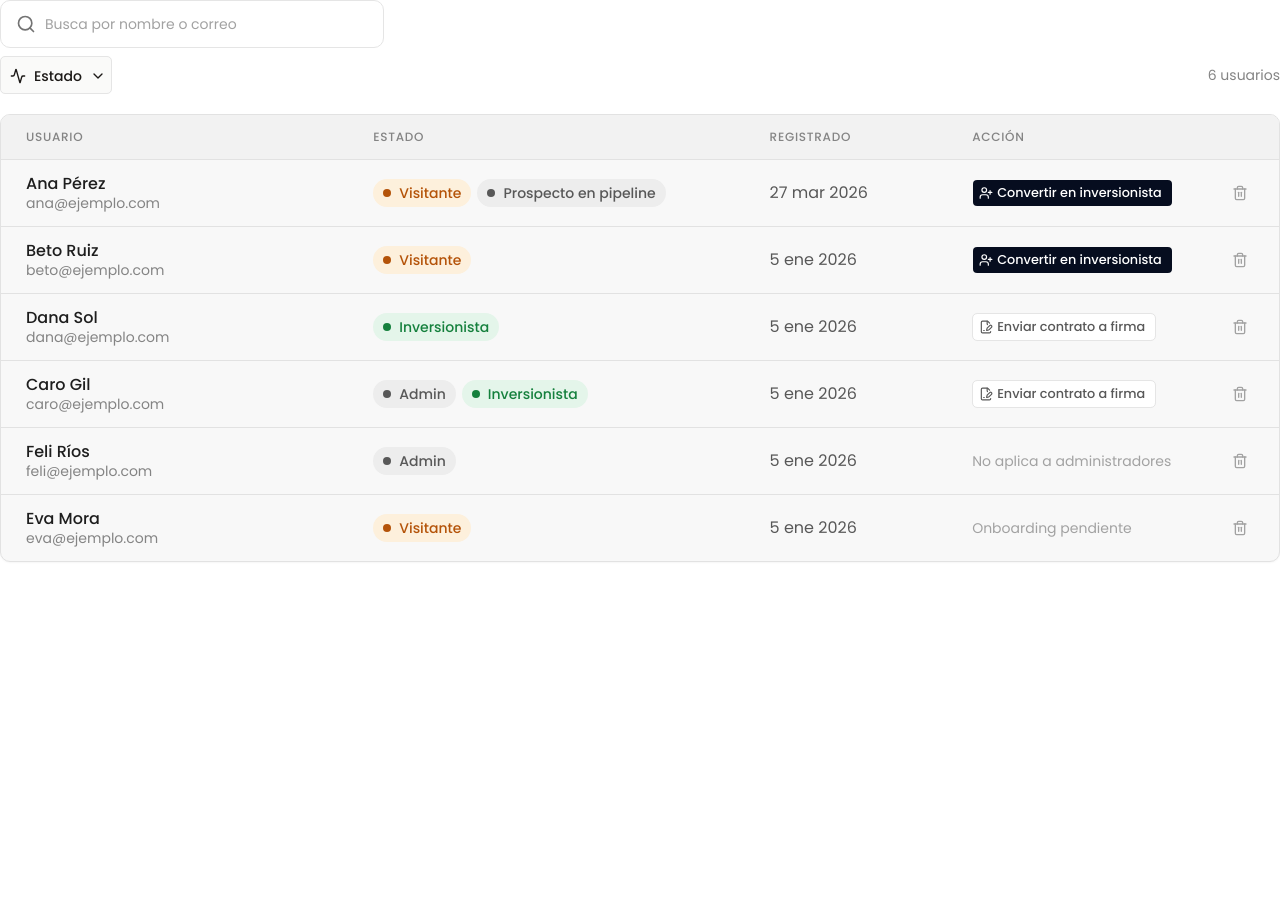
Test: the confirmation dialog › says the record will be CONNECTED when a prospect matches
Click the button "Convertir en inversionista" in the row of "Ana Pérez". click: coordinates (1073, 193)
box: [972,179,1173,207]
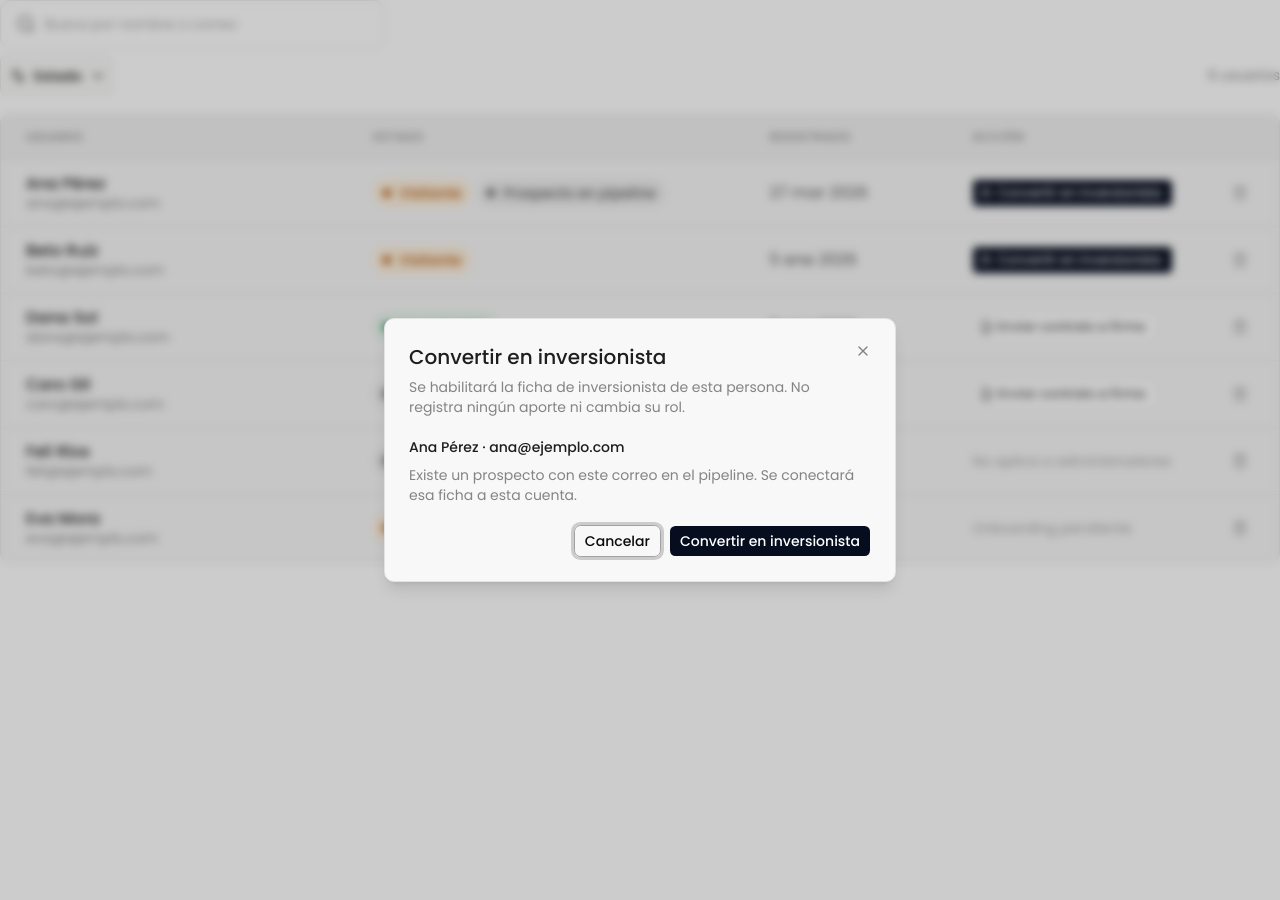
Now the text "Existe un prospecto con este correo en el pipeline. Se conectará esa ficha a esta cuenta." is shown, box [409,465,854,505]
